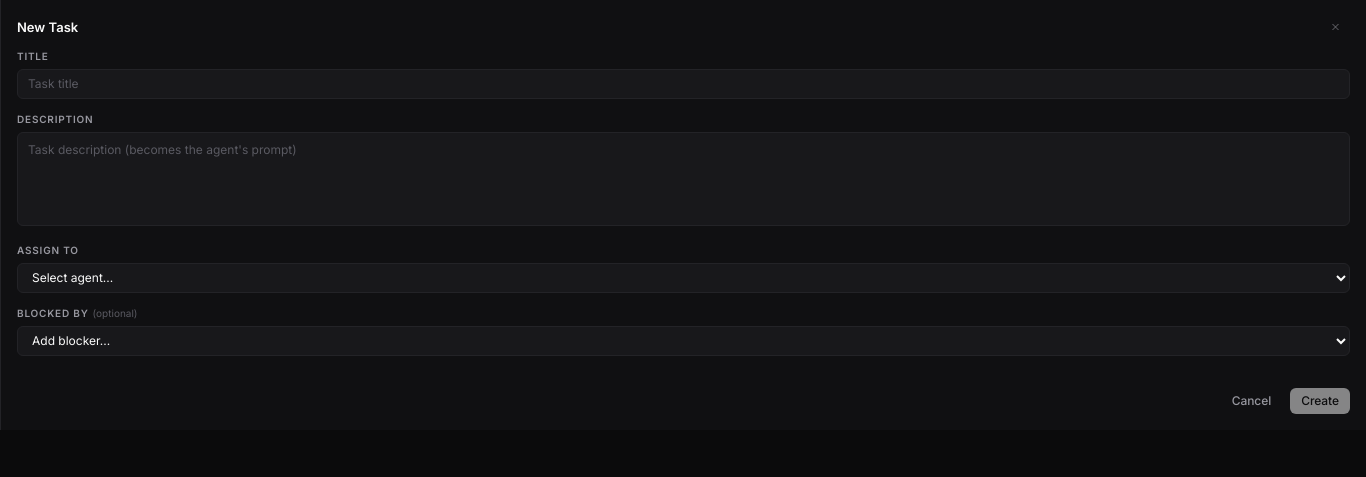
Test: CreateTaskSidebar › adds a blocker chip and removes duplicates from the blocker select
The width and height of the screenshot is (1366, 477).
Select "Second (TSK-2)" in the dropdown with id "task-blockers". click: (684, 341)
box: [17,326,1350,356]
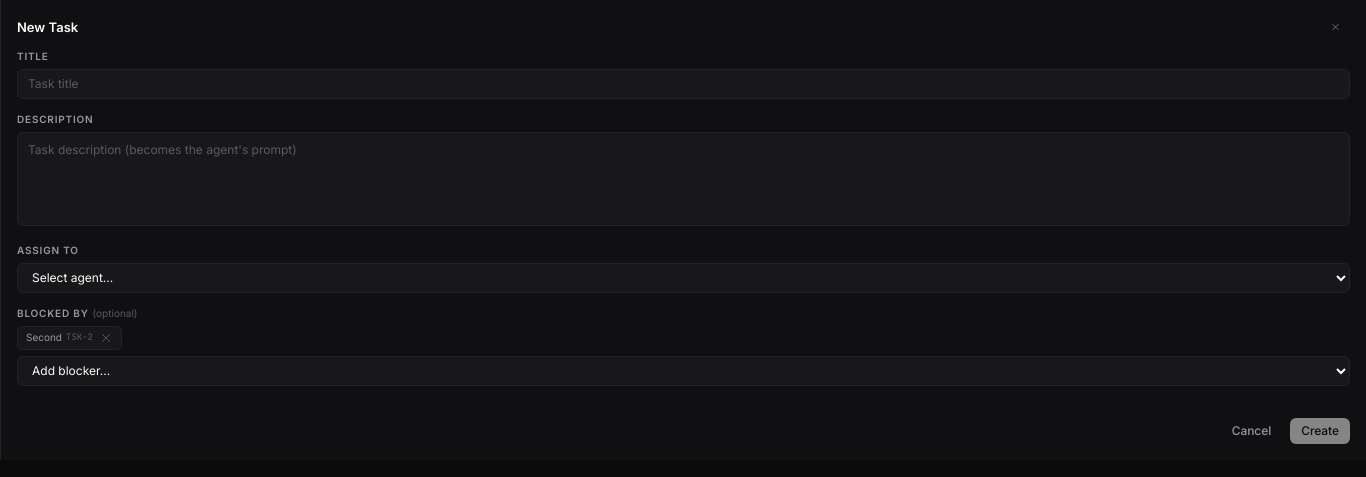
Now the text "Second" is shown, box [26,331,62,343]
